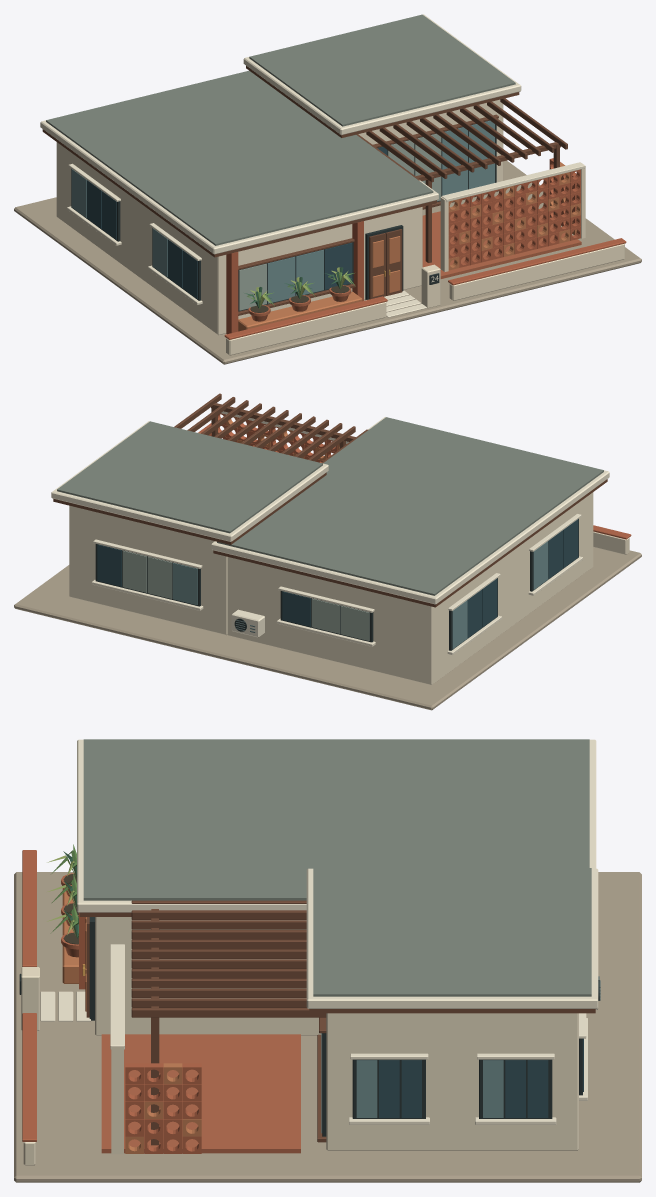
3 renders of one model, top to bottom at view 1: azimuth 30°, elevation 25°; view 2: azimuth 150°, elevation 25°; view 3: azimuth 270°, elevation 25°, orthographic. The views are drawn at different scales.
Visible parts, largest first — view 1: Cantilevered eaves, Patio and garden walls, Staggered bungalow wings, Casements and sills, Perforated clay screen, Entrance joinery, Potted pandan; view 2: Cantilevered eaves, Staggered bungalow wings, Patio and garden walls, Casements and sills, Perforated clay screen, Service fittings; view 3: Cantilevered eaves, Patio and garden walls, Staggered bungalow wings, Casements and sills, Perforated clay screen, Potted pandan, Entrance joinery.
Part boxes in pixels (x1=…): Cantilevered eaves: x1=40, y1=14, x2=585, y2=262; Patio and garden walls: x1=14, y1=160, x2=641, y2=364; Staggered bungalow wings: x1=56, y1=99, x2=503, y2=335; Casements and sills: x1=67, y1=114, x2=498, y2=315; Perforated clay screen: x1=448, y1=158, x2=580, y2=270; Entrance joinery: x1=365, y1=225, x2=403, y2=299; Potted pandan: x1=244, y1=267, x2=355, y2=321; Cantilevered eaves: x1=51, y1=393, x2=609, y2=607; Staggered bungalow wings: x1=69, y1=492, x2=593, y2=684; Patio and garden walls: x1=14, y1=408, x2=641, y2=710; Casements and sills: x1=91, y1=514, x2=582, y2=654; Perforated clay screen: x1=198, y1=413, x2=346, y2=462; Service fittings: x1=231, y1=609, x2=264, y2=637; Cantilevered eaves: x1=77, y1=739, x2=598, y2=1145; Patio and garden walls: x1=14, y1=850, x2=641, y2=1182; Staggered bungalow wings: x1=79, y1=912, x2=578, y2=1150; Casements and sills: x1=317, y1=1013, x2=587, y2=1142; Perforated clay screen: x1=125, y1=1063, x2=201, y2=1153; Potted pandan: x1=47, y1=844, x2=78, y2=957; Entrance joinery: x1=82, y1=917, x2=94, y2=1020.
Bounding box in the file's own units: 16.6 × 4.31 × 14.42.
